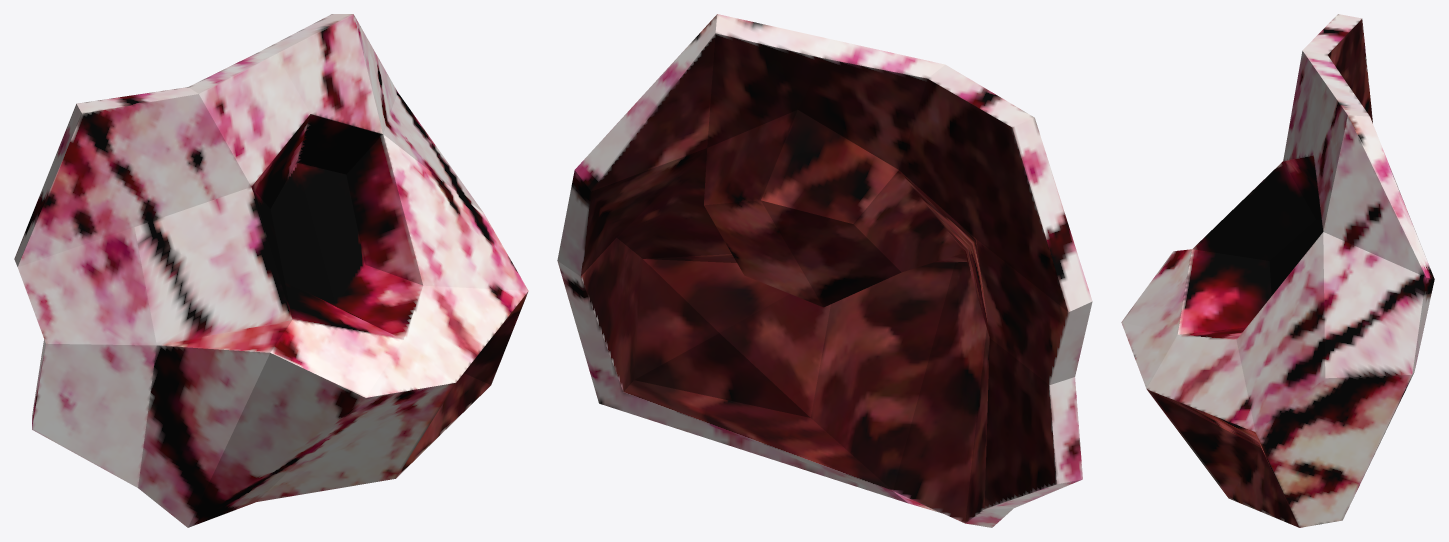
File: TornSkull6.fbx
3 views of the same model, side by side, from view 1: azimuth 30°, elevation 25°; view 2: azimuth 150°, elevation 25°; view 3: azimuth 270°, elevation 25° (orthographic). The views are drawn at different scales.
Visible parts, largest first — view 1: TornSkull6; view 2: TornSkull6; view 3: TornSkull6.
Boxes of the visible parts, left/top/right/bottom form: TornSkull6: left=14, top=14, right=528, bottom=527; TornSkull6: left=557, top=14, right=1092, bottom=527; TornSkull6: left=1121, top=14, right=1434, bottom=527.
Bounding box in the file's own units: 375 × 338 × 233.
